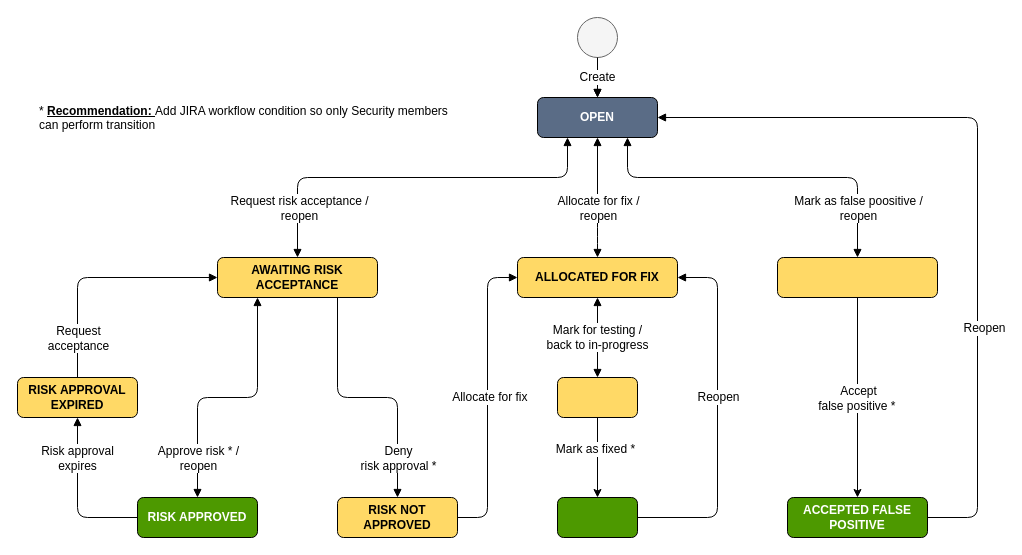
The diagram is 1022 pixels wide and 555 high, and some of its shapes have lost their labels. Here are the shapes that lost their labels. From the top down, the centre of each, then its label:
At pixel 857 277: "MARKED AS FALSE POSITIVE".
At pixel 597 397: "TEST FIX".
At pixel 597 517: "FIXED".
